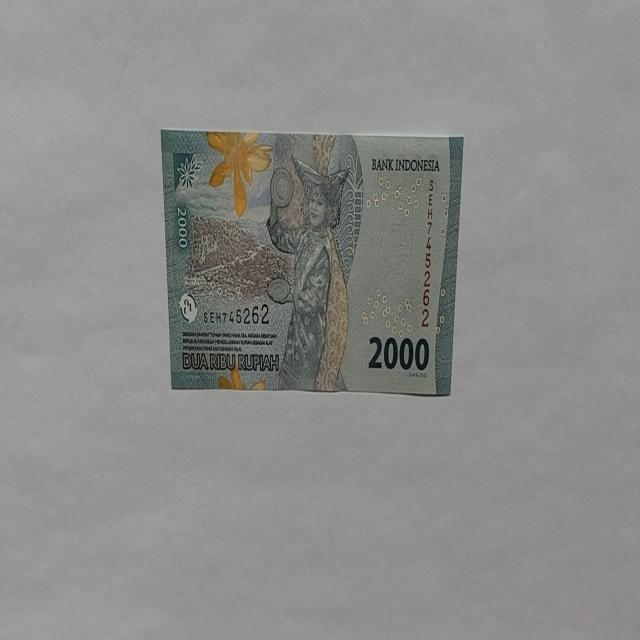dua ribu rupiah: (160, 128, 464, 396), (265, 154, 351, 392), (205, 130, 272, 218)
